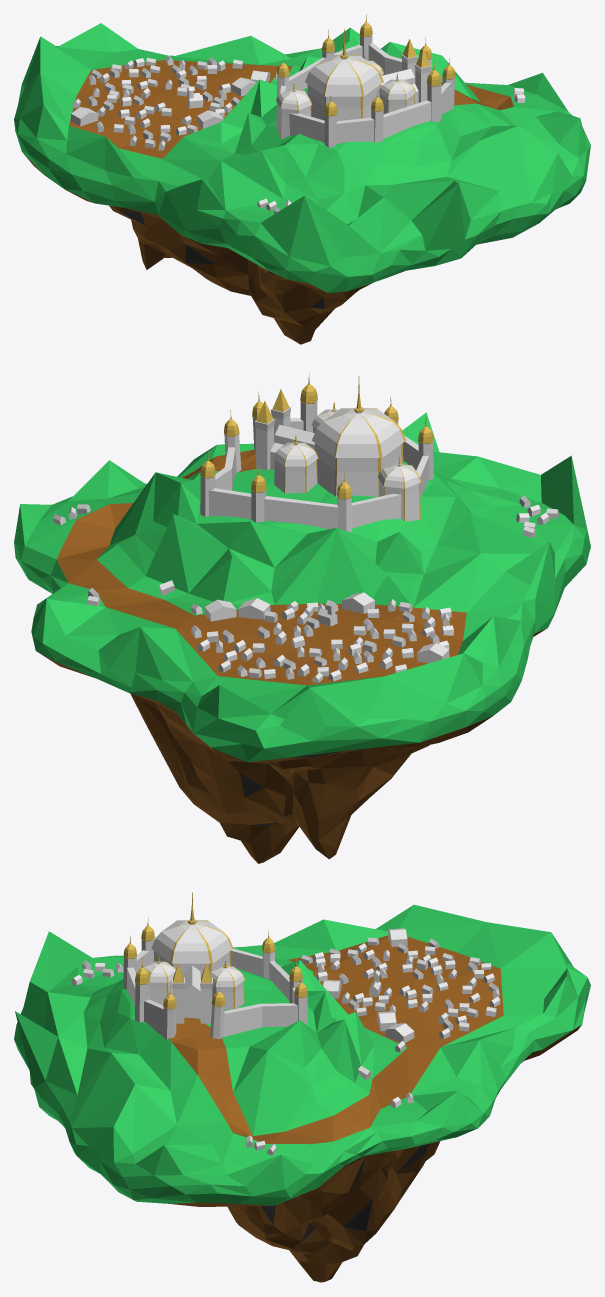
The model's file is CitadelModelNew.fbx.
The picture shows the model from 3 angles, top to bottom: view 1: azimuth 30°, elevation 25°; view 2: azimuth 150°, elevation 25°; view 3: azimuth 270°, elevation 25°; orthographic projection. The views are drawn at different scales.
Visible parts, largest first — view 1: IslandCitadelDecimate, Buildings; view 2: IslandCitadelDecimate, Buildings; view 3: IslandCitadelDecimate, Buildings.
Part boxes in pixels (x1,y1,x2,y2): IslandCitadelDecimate: [14, 23, 590, 344]; Buildings: [70, 14, 525, 213]; IslandCitadelDecimate: [14, 412, 590, 863]; Buildings: [53, 373, 558, 682]; IslandCitadelDecimate: [14, 904, 590, 1282]; Buildings: [71, 892, 500, 1155].
Size of the model in its own units: 824 by 629 by 864.
